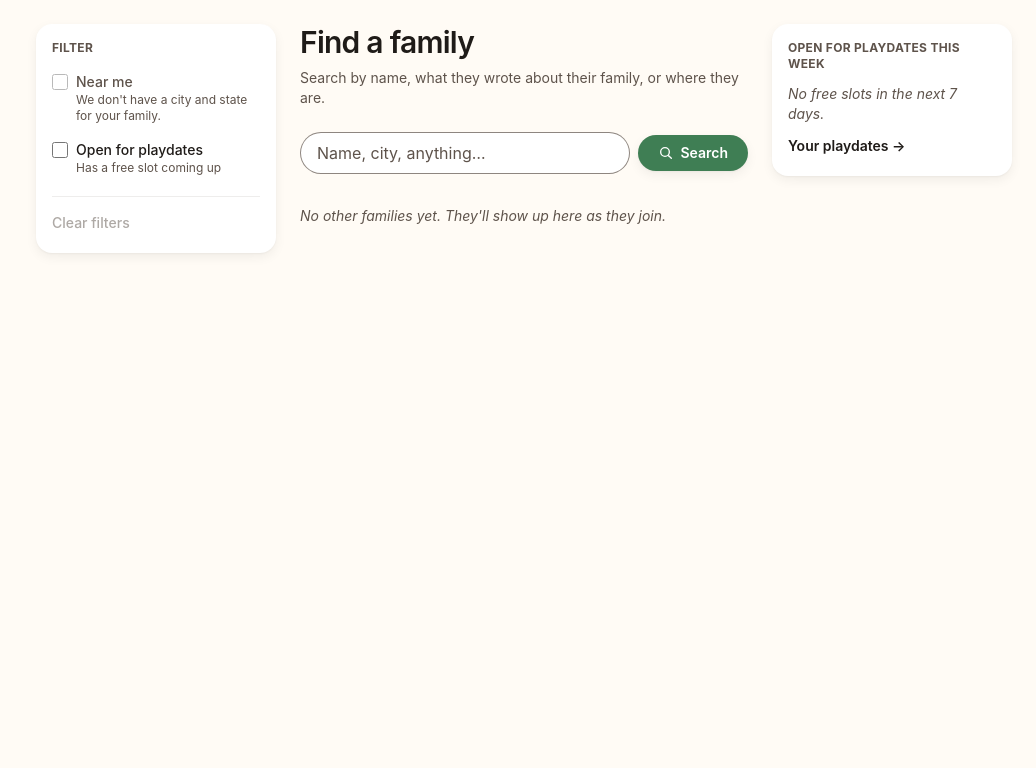
Test: SearchPage query › sends the query with limit 50 and now, and puts it in the URL
Type " anderson " into the field named "Search" at (465, 153), box [300, 132, 630, 174]
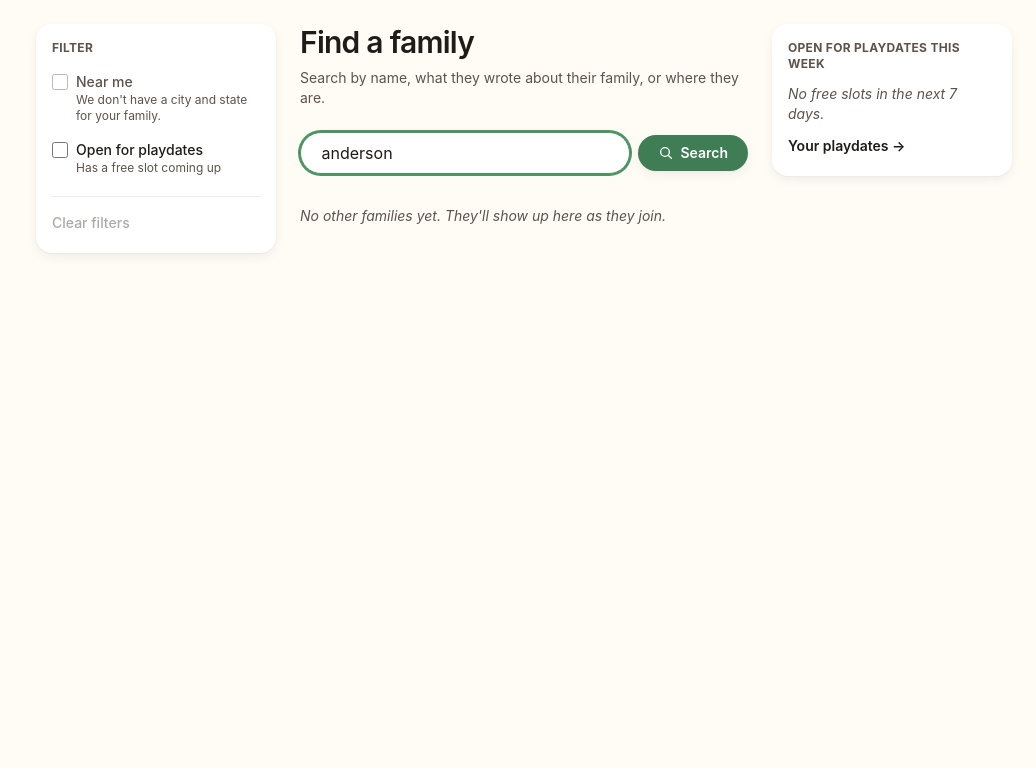
Click the button "Search" at (693, 153), box [638, 135, 748, 171]
(page scrolled)
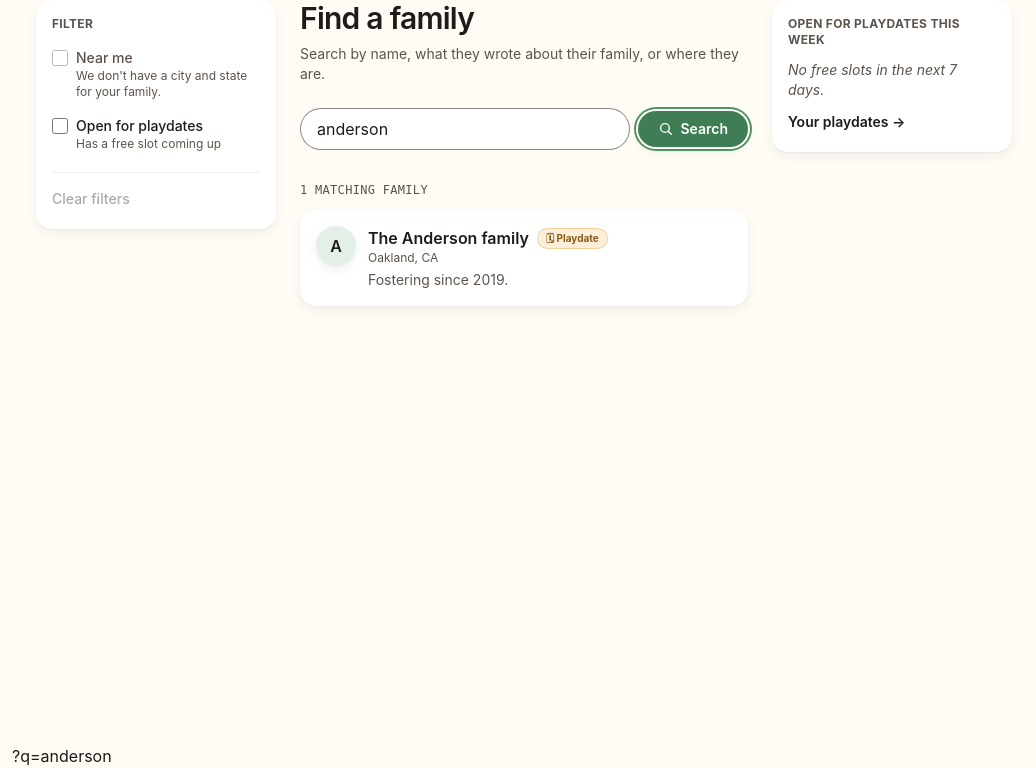
expect the link "The Anderson family" is shown: met, box [368, 228, 529, 248]
expect the text with test id "location-search" reads "?q=anderson": met, box [12, 746, 112, 766]
